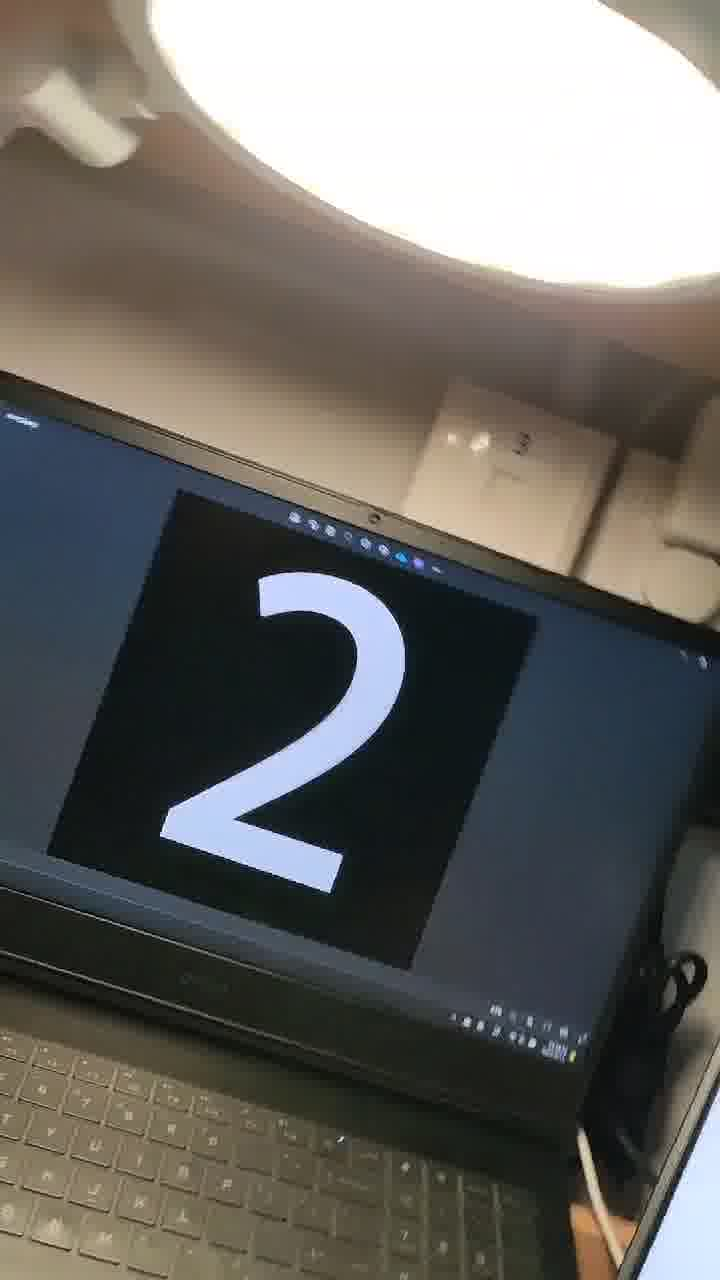two: (121, 520, 418, 949)
